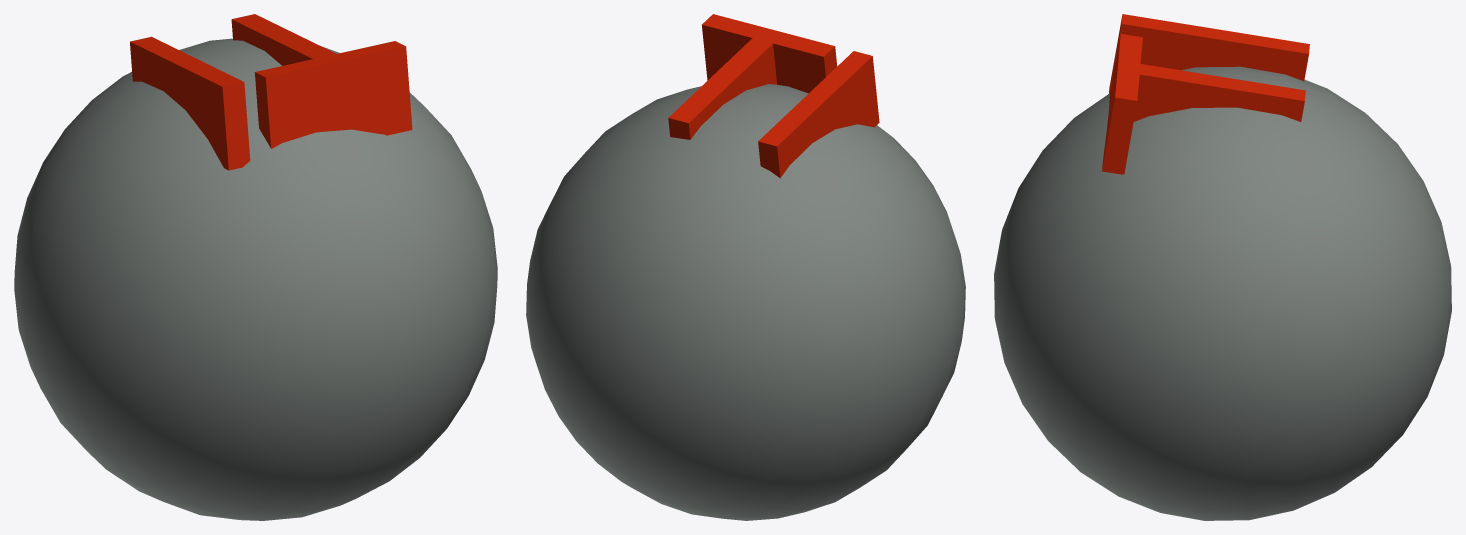
The picture shows the model from 3 angles, left to right: view 1: azimuth 30°, elevation 25°; view 2: azimuth 150°, elevation 25°; view 3: azimuth 270°, elevation 25°; orthographic projection. The views are drawn at different scales.
Visible parts, largest first — view 1: Ti; view 2: Ti; view 3: Ti.
Boxes of the visible parts, left/top/right/bottom form: Ti: left=14, top=14, right=497, bottom=520; Ti: left=526, top=14, right=965, bottom=520; Ti: left=994, top=14, right=1451, bottom=520.
Size of the model in its own units: 38.71 by 41.53 by 38.63.
